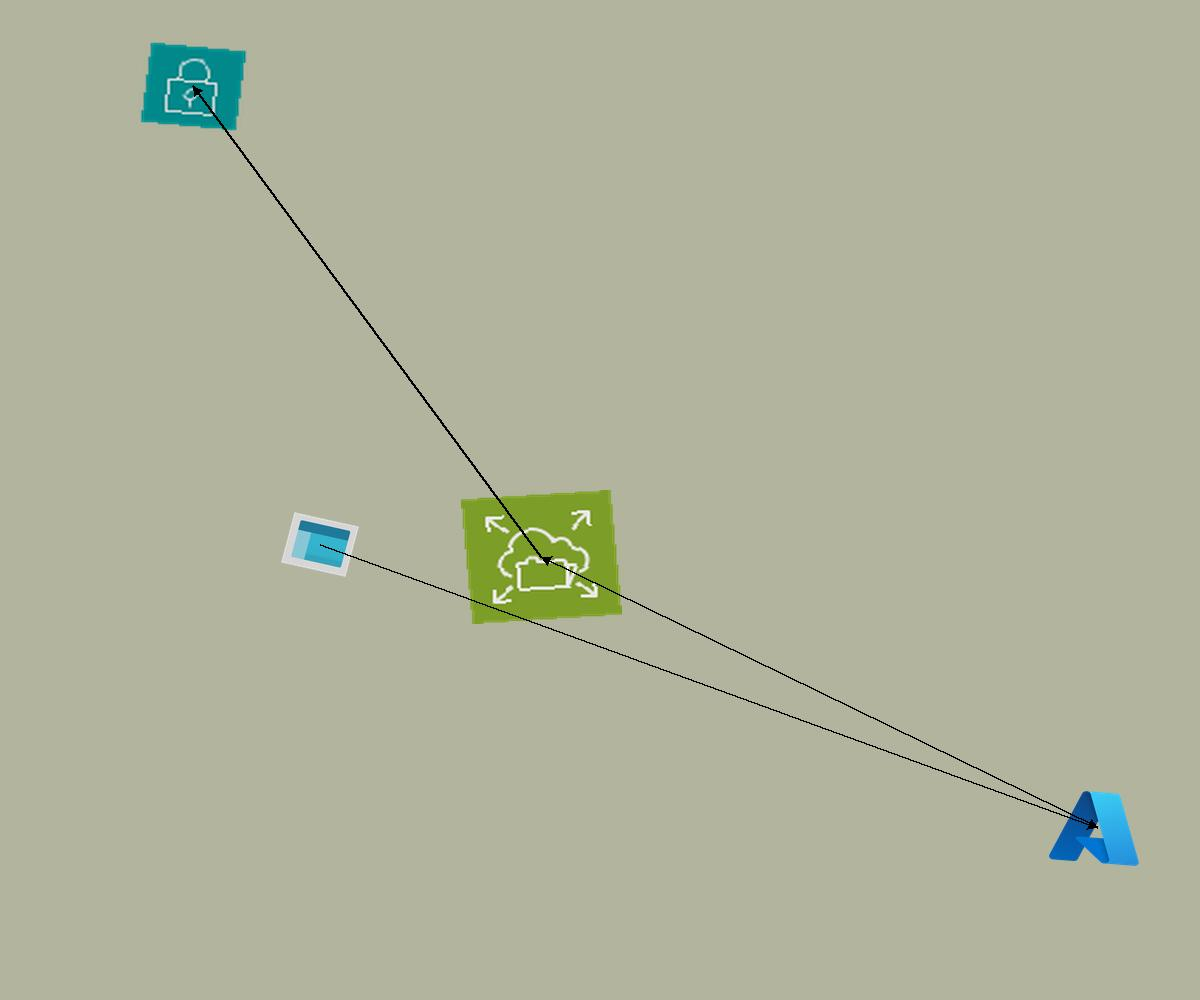AWS-EFS: (461, 490, 622, 624)
AWS-Private-subnet: (139, 41, 248, 132)
Azure_management-portal: (281, 512, 359, 577)
Azure_services: (1044, 783, 1151, 872)
